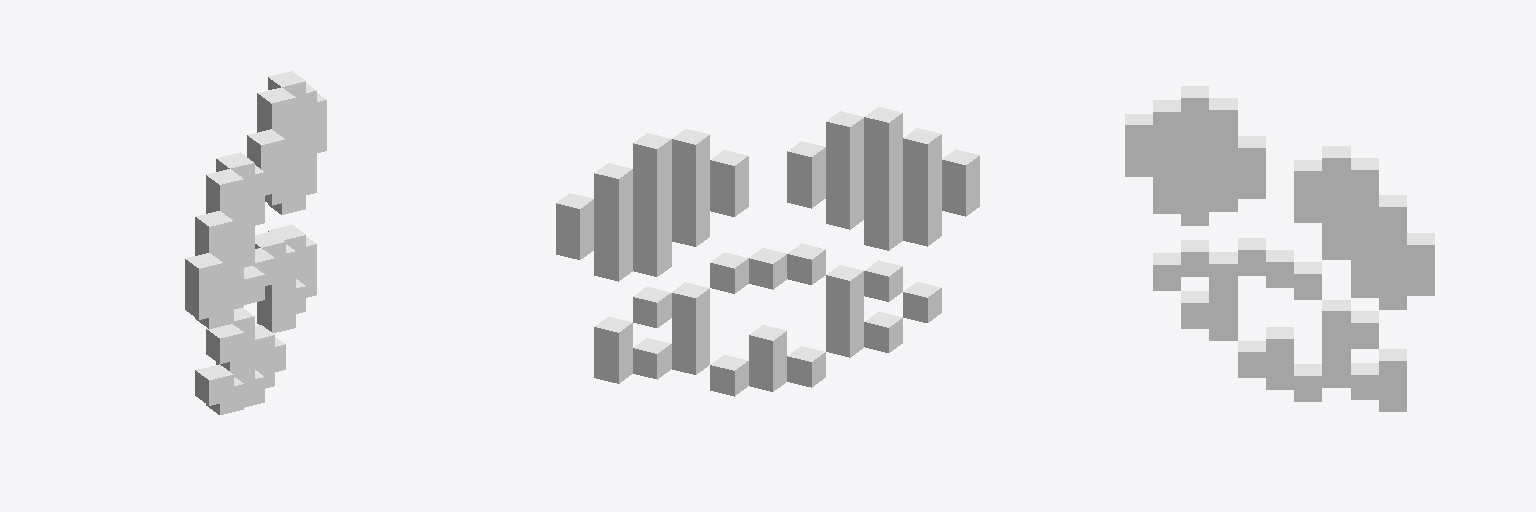
The model's file is FygarGhost1Quarter.obj.
3 renders of one model, left to right at view 1: azimuth 30°, elevation 25°; view 2: azimuth 150°, elevation 25°; view 3: azimuth 270°, elevation 25°, orthographic.
Parts seen in each view (by area): view 1: FygarGhost1; view 2: FygarGhost1; view 3: FygarGhost1.
Boxes of the visible parts, box(x1,y1,x2,y2) form: FygarGhost1: box(185, 71, 326, 414); FygarGhost1: box(556, 107, 979, 396); FygarGhost1: box(1125, 86, 1434, 411).
Size of the model in its own units: 1.1 by 1 by 1.1.